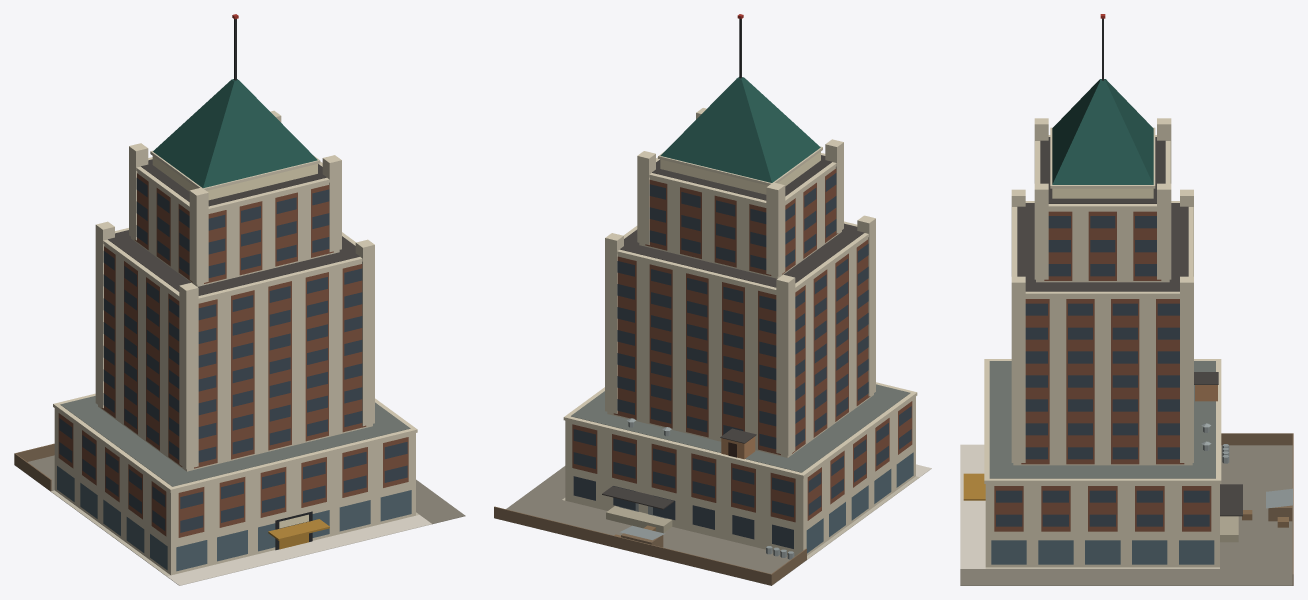
The model's file is tower_u.glb.
3 renders of one model, left to right at view 1: azimuth 30°, elevation 25°; view 2: azimuth 150°, elevation 25°; view 3: azimuth 270°, elevation 25°, orthographic. The views are drawn at different scales.
Parts seen in each view (by area): view 1: tower_u; view 2: tower_u; view 3: tower_u.
Part boxes in pixels (bbox=[...]): tower_u: bbox=[14, 14, 465, 585]; tower_u: bbox=[494, 14, 931, 585]; tower_u: bbox=[960, 14, 1293, 585].
Bounding box in the file's own units: 30 × 48.9 × 30.
